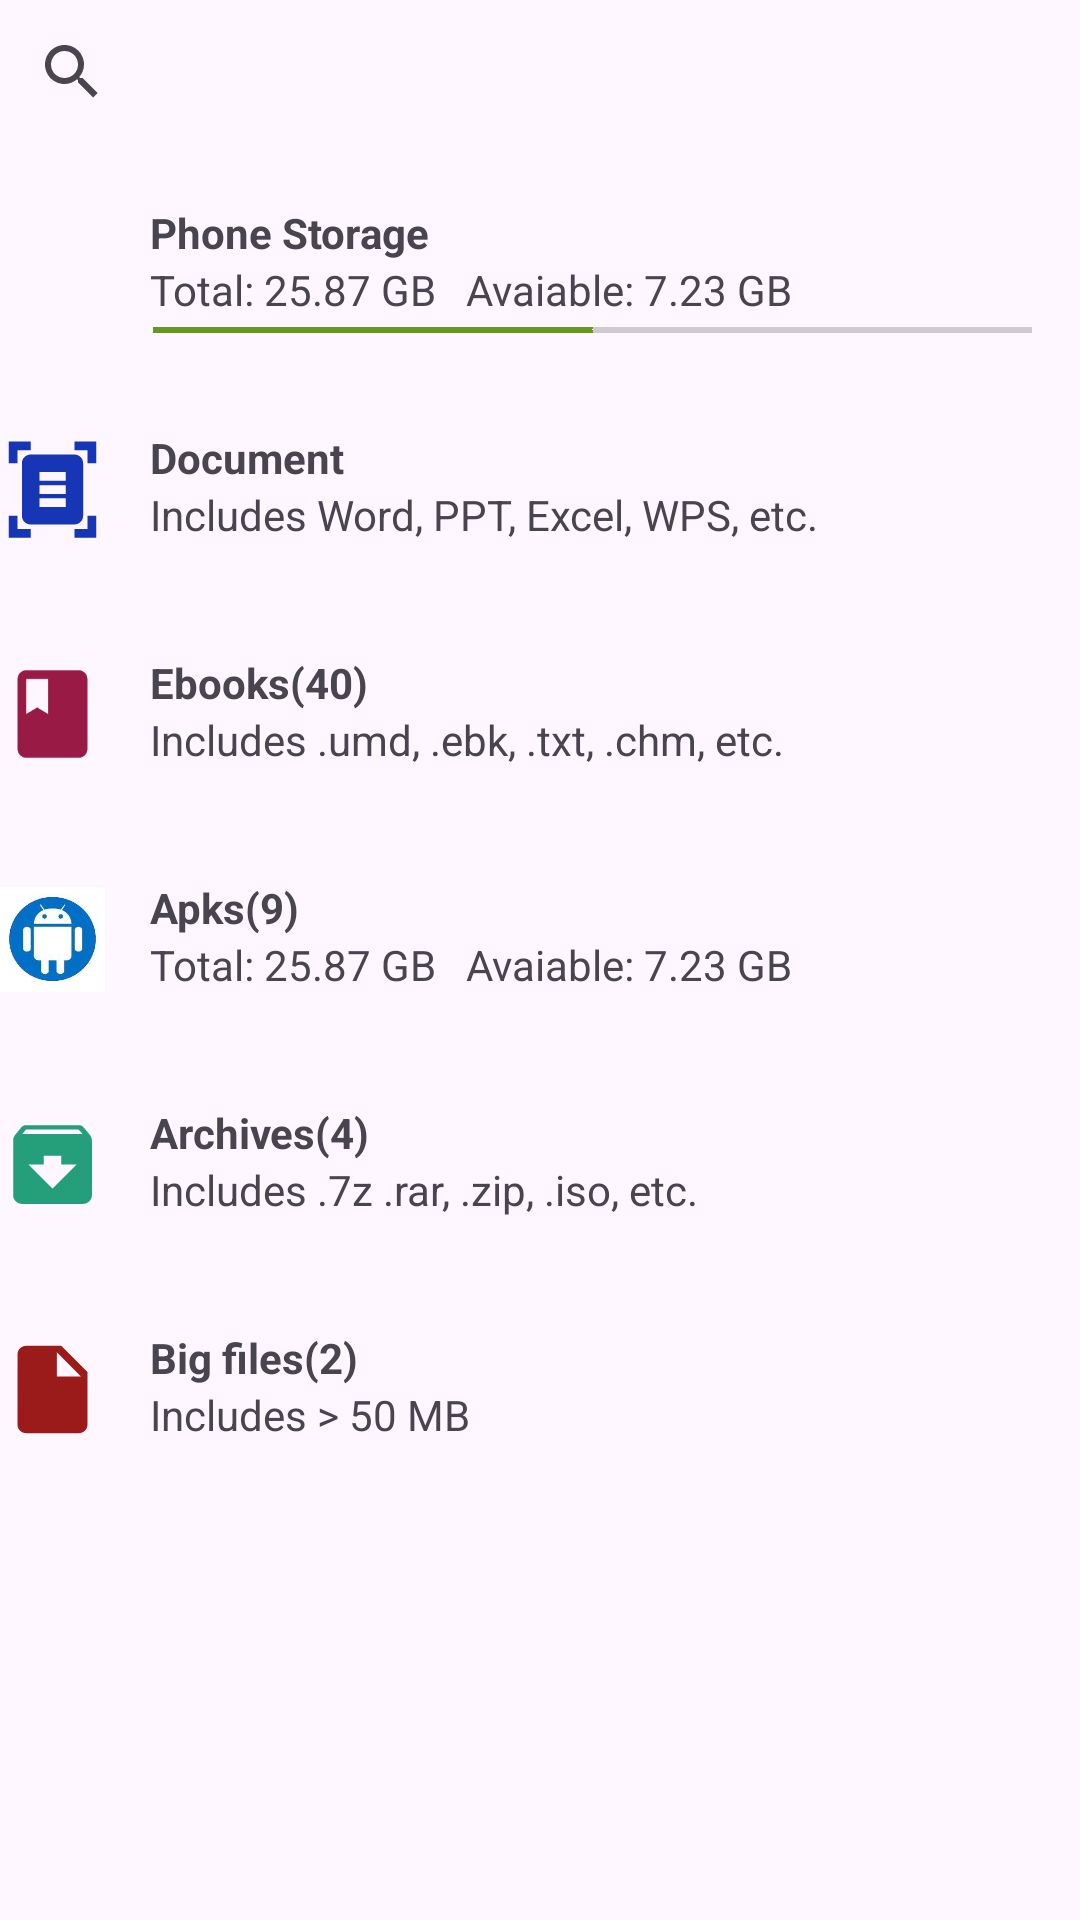

Screen size 1080x1920. Icon name, then its center in pixels as point (x, y):
insert drive file: point (52, 1389)
